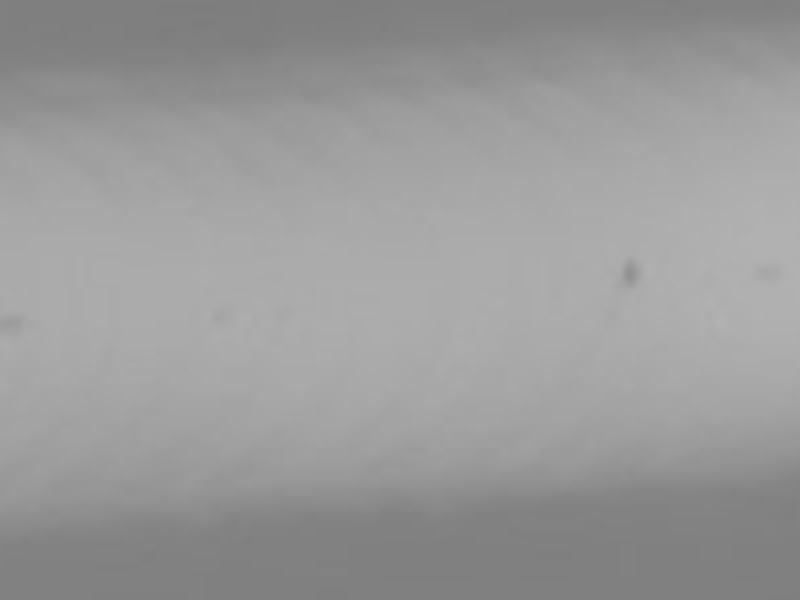defect: (617, 252, 641, 289), (757, 257, 788, 282), (211, 302, 238, 328), (1, 316, 22, 339)
